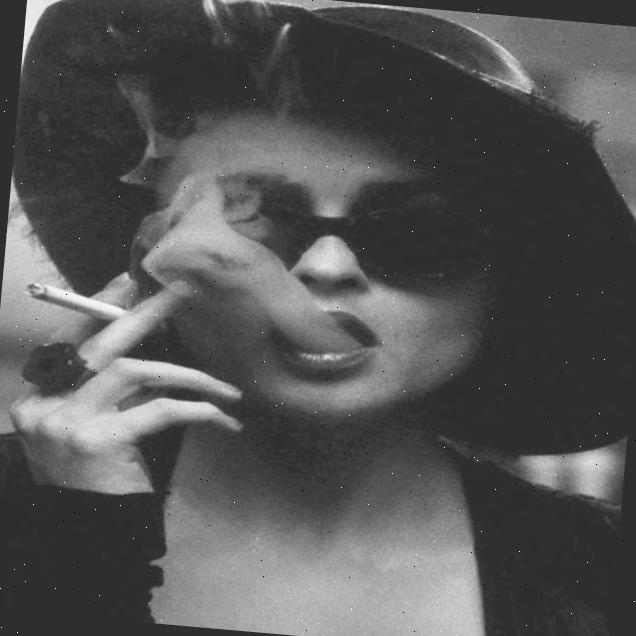smoke: (131, 179, 364, 345)
